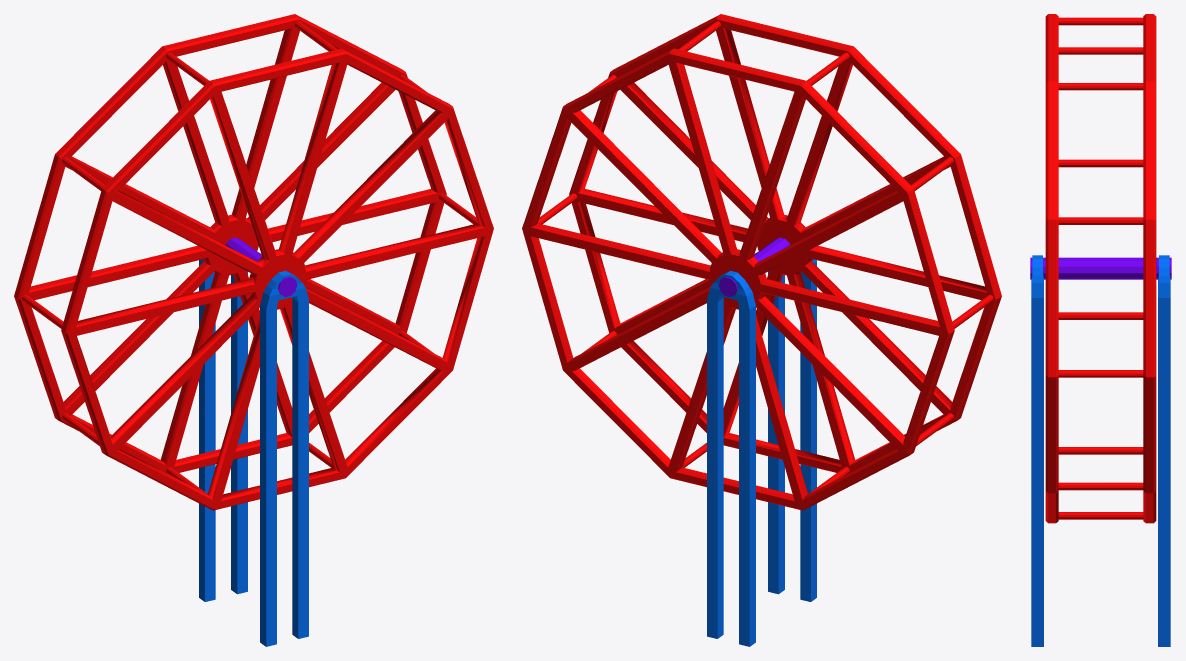
The model's file is RuedaDeLaFortuna.FBX.
3 renders of one model, left to right at view 1: azimuth 30°, elevation 25°; view 2: azimuth 150°, elevation 25°; view 3: azimuth 270°, elevation 25°, orthographic. The views are drawn at different scales.
Visible parts, largest first — view 1: Cylinder004, Box003, Cylinder005; view 2: Cylinder004, Box003, Cylinder005; view 3: Cylinder004, Box003, Cylinder005.
Part boxes in pixels (<box>): Cylinder004: <box>14,14,493,510</box>; Box003: <box>199,259,308,646</box>; Cylinder005: <box>225,237,297,296</box>; Cylinder004: <box>522,14,1001,510</box>; Box003: <box>707,259,816,646</box>; Cylinder005: <box>718,237,790,296</box>; Cylinder004: <box>1045,14,1156,523</box>; Box003: <box>1031,255,1170,646</box>; Cylinder005: <box>1030,257,1171,279</box>.
Size of the model in its own units: 400 by 506 by 110.
